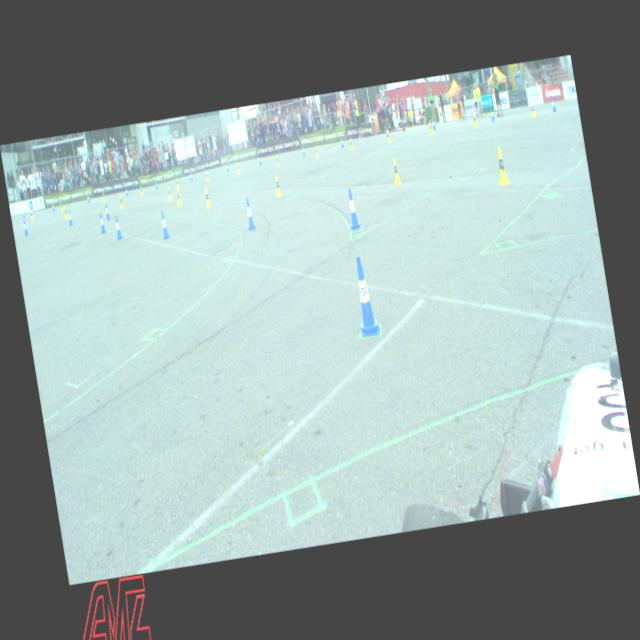blue_cone: (350, 256, 380, 336), (345, 188, 360, 229), (244, 197, 256, 230), (160, 210, 170, 239), (114, 216, 122, 240), (98, 214, 106, 234), (22, 220, 28, 236), (104, 204, 110, 220), (68, 210, 73, 226), (552, 99, 556, 112), (258, 154, 262, 166), (490, 109, 494, 121), (432, 119, 436, 130), (302, 146, 306, 156), (86, 194, 90, 203), (190, 172, 193, 182), (341, 138, 344, 148), (226, 163, 229, 172), (125, 187, 128, 196), (155, 180, 158, 189), (22, 210, 25, 218), (386, 127, 388, 138), (52, 204, 55, 211)
yellow_cone: (495, 147, 509, 184), (392, 158, 401, 184), (274, 175, 282, 198), (204, 187, 212, 207), (176, 188, 182, 206), (530, 101, 536, 118), (472, 114, 478, 128), (429, 120, 434, 134), (119, 195, 124, 208), (386, 130, 391, 142), (349, 138, 354, 150), (168, 186, 172, 200), (64, 207, 68, 219), (314, 146, 318, 158), (276, 155, 280, 166), (102, 192, 106, 202), (206, 171, 209, 181), (176, 178, 179, 188), (237, 164, 240, 174), (140, 187, 143, 196), (60, 202, 63, 211), (30, 212, 33, 220)
